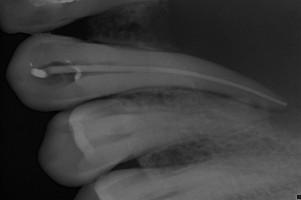Furcation Involvement: (122, 0, 301, 140)
